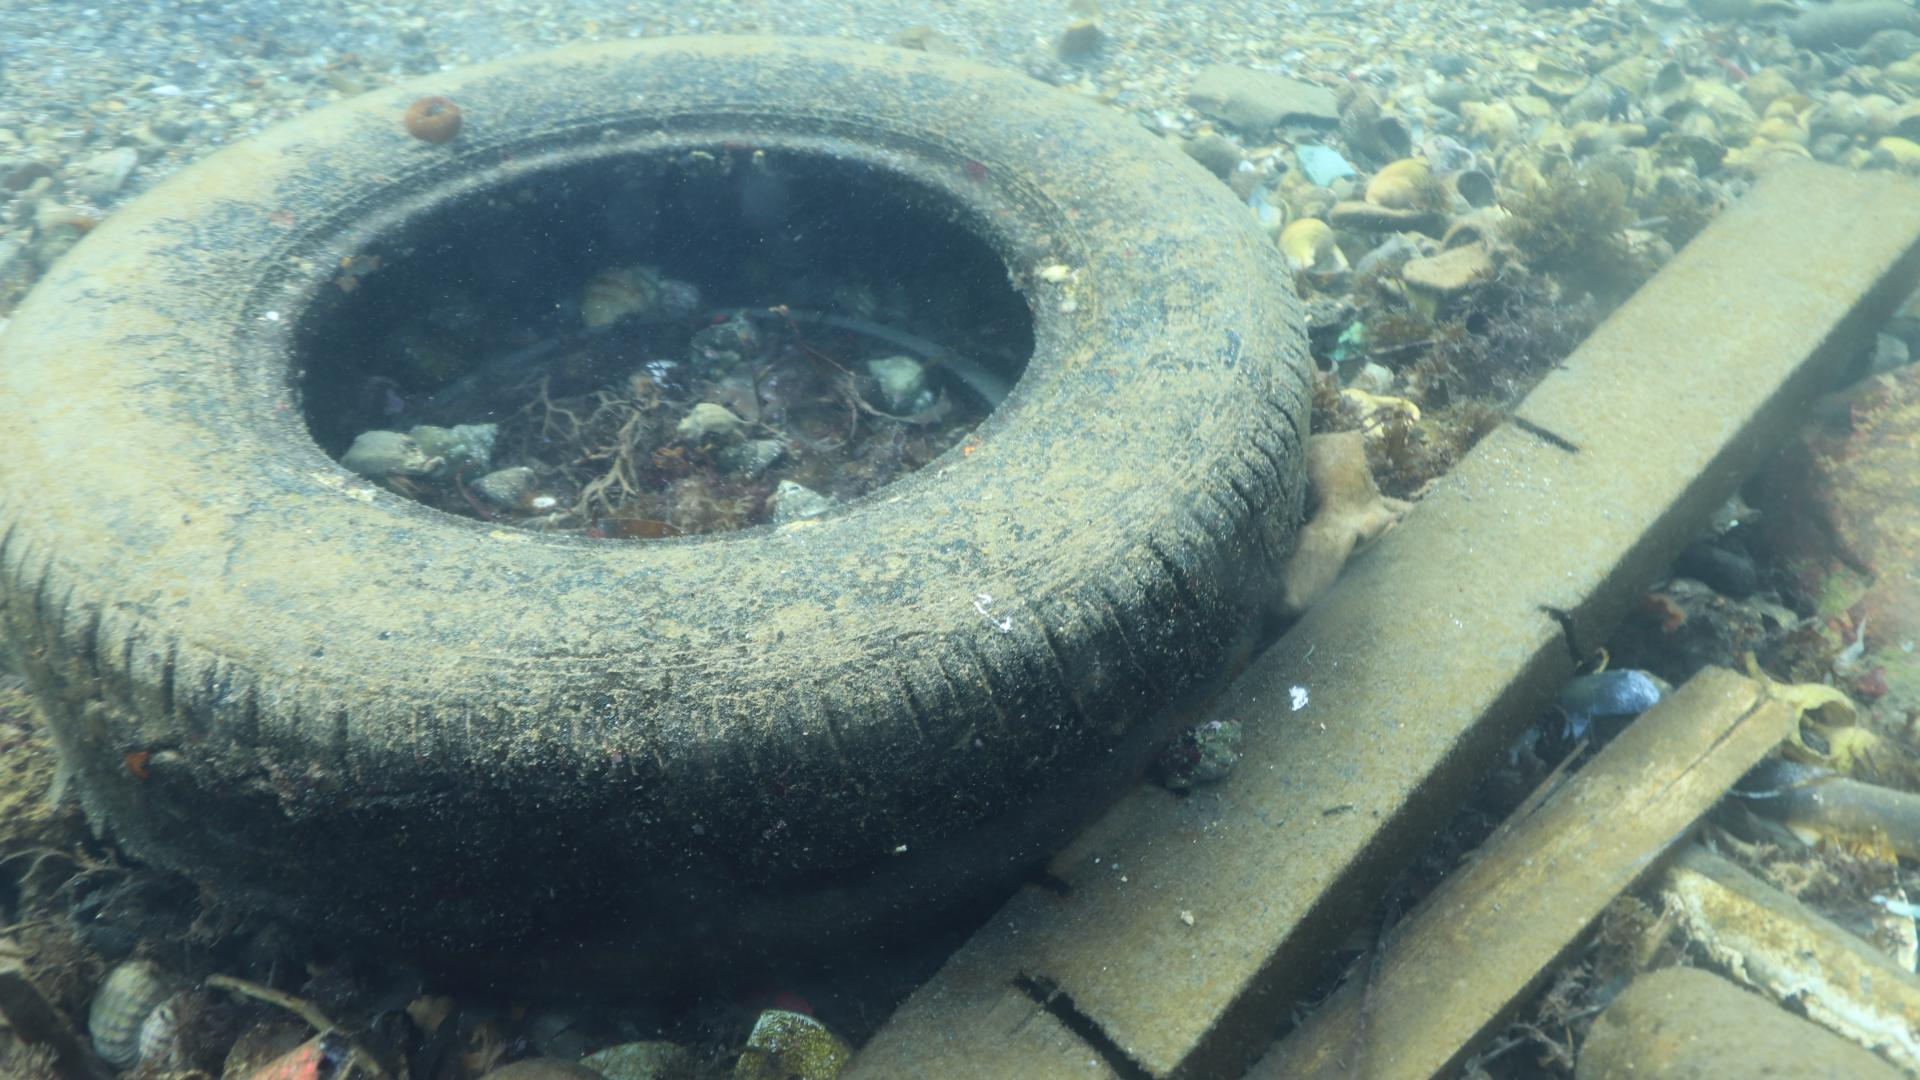tire: (0, 33, 1312, 977)
wood: (820, 145, 1920, 1080), (1218, 658, 1815, 1080)
